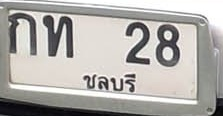txt01: (8, 12, 38, 56)
txt18: (41, 13, 75, 60)
